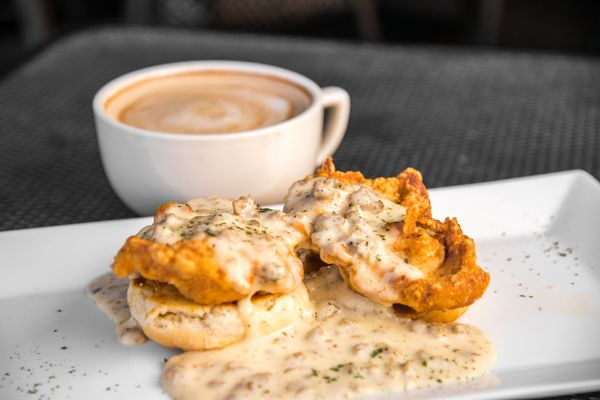sushi: (93, 58, 352, 215)
